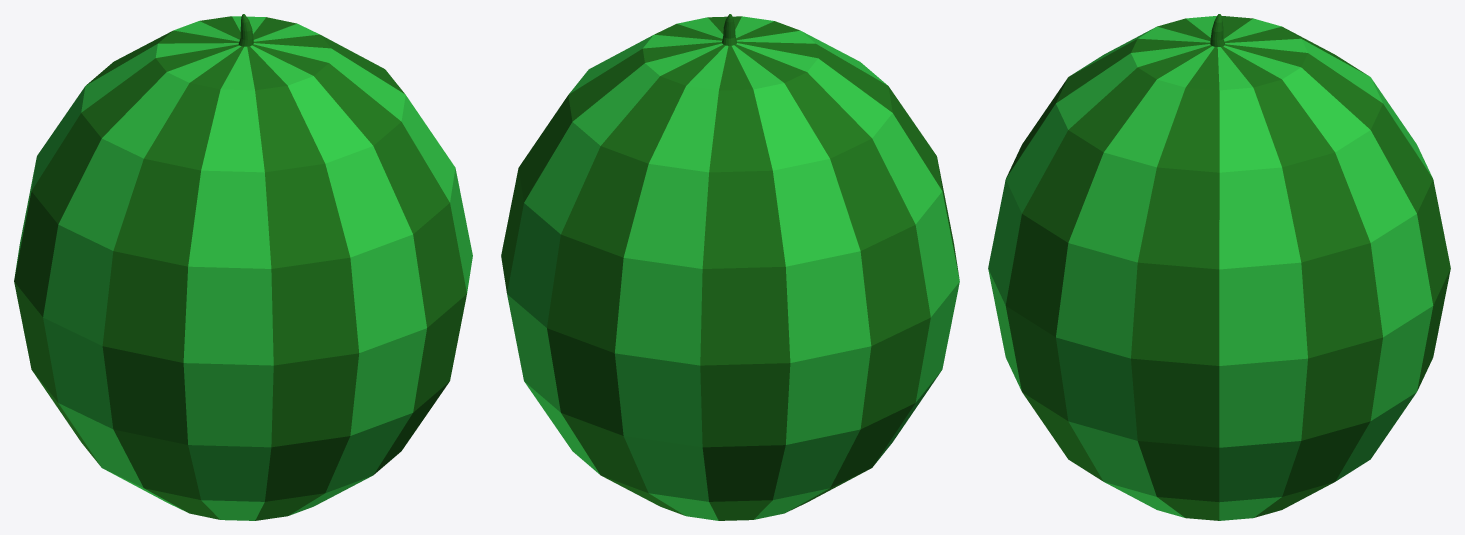
The model's file is arbuz.fbx.
The picture shows the model from 3 angles, left to right: view 1: azimuth 30°, elevation 25°; view 2: azimuth 150°, elevation 25°; view 3: azimuth 270°, elevation 25°; orthographic projection.
Parts seen in each view (by area): view 1: watermelon-top, watermelon-bottom; view 2: watermelon-top, watermelon-bottom; view 3: watermelon-top, watermelon-bottom.
Part boxes in pixels (x1,y1,x2,y2): watermelon-top: [14, 14, 472, 365]; watermelon-bottom: [14, 282, 466, 520]; watermelon-top: [501, 14, 959, 365]; watermelon-bottom: [507, 282, 959, 520]; watermelon-top: [988, 14, 1450, 365]; watermelon-bottom: [988, 269, 1450, 520].
Bounding box in the file's own units: 79.21 × 92 × 79.21.
